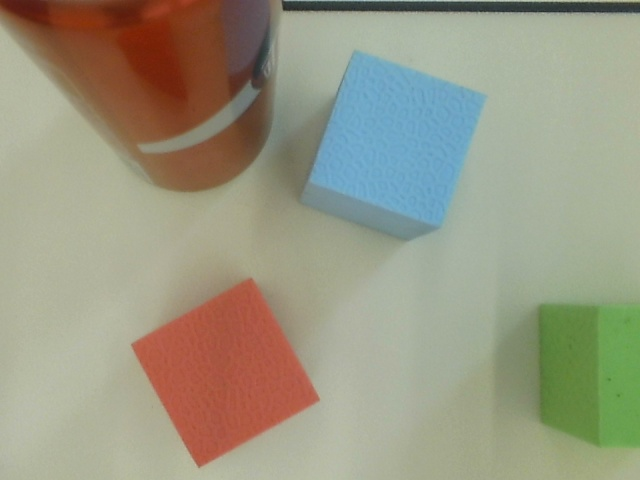bluecube: (304, 45, 491, 263)
cola: (1, 1, 281, 199)
greencube: (530, 297, 640, 453)
redcube: (123, 276, 329, 473)
